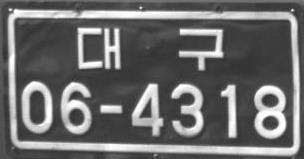0: (20, 80, 53, 133)
1: (214, 83, 248, 138)
3: (170, 82, 204, 136)
4: (131, 82, 164, 136)
6: (60, 81, 92, 134)
8: (253, 84, 287, 140)
대구_D: (76, 25, 223, 71)
